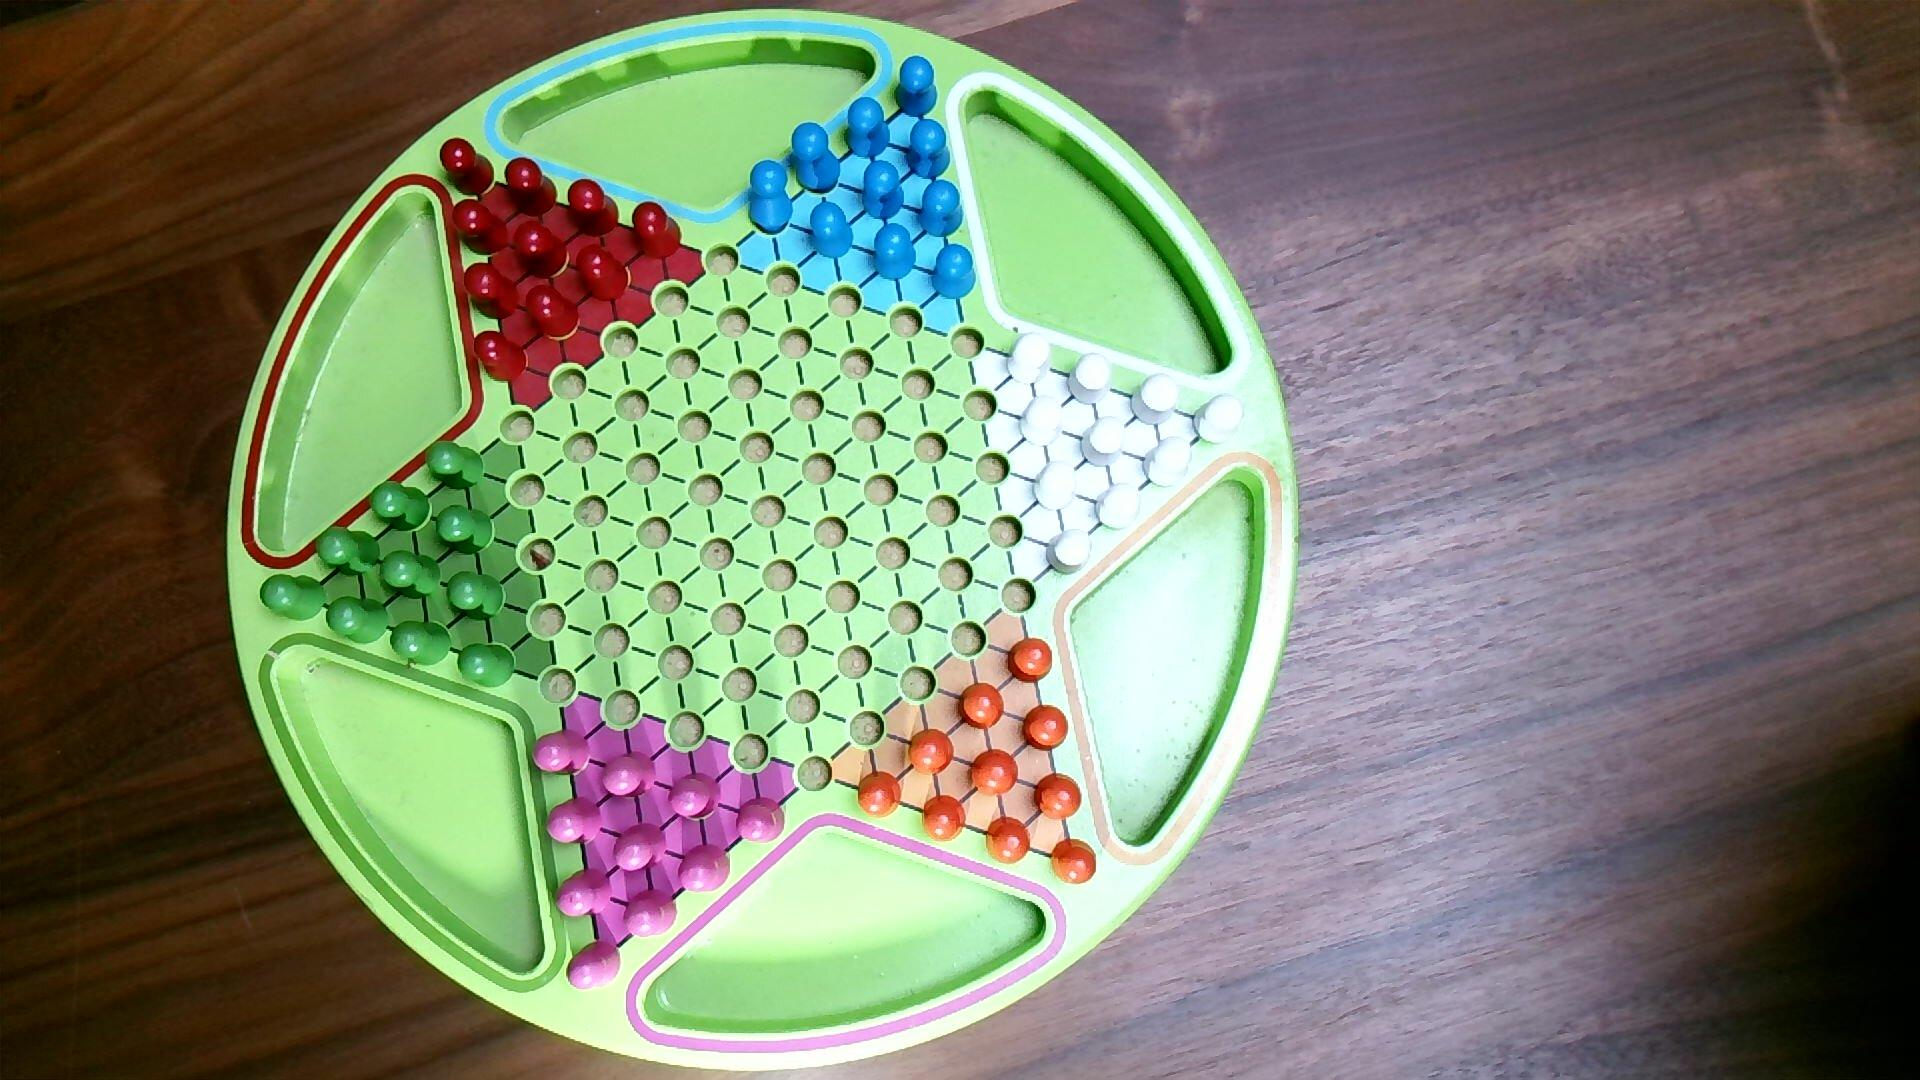B: (790, 121, 843, 196), (746, 160, 795, 233), (843, 94, 893, 161), (891, 53, 940, 120), (858, 158, 907, 223), (905, 117, 953, 182), (916, 178, 967, 240), (870, 222, 918, 284), (931, 243, 978, 303), (808, 200, 855, 262)
G: (314, 525, 382, 579), (368, 479, 433, 534), (324, 595, 392, 647), (378, 549, 443, 603), (423, 439, 487, 493), (388, 618, 455, 669), (444, 568, 506, 622), (434, 504, 496, 558), (258, 574, 327, 622), (458, 641, 518, 690)
O: (967, 746, 1021, 800), (1031, 770, 1085, 823), (1047, 836, 1098, 887), (955, 680, 1006, 732), (1019, 703, 1071, 754), (907, 727, 957, 779), (982, 815, 1033, 866), (920, 793, 969, 845), (1005, 636, 1055, 686), (856, 770, 905, 819)
R: (460, 260, 524, 323), (448, 196, 512, 258), (438, 136, 497, 199), (564, 175, 622, 239), (504, 156, 560, 220), (574, 243, 632, 305), (512, 220, 570, 281), (629, 199, 684, 262), (524, 282, 582, 342), (472, 328, 530, 386)
R2: (554, 866, 615, 920), (562, 939, 622, 993), (543, 795, 605, 848), (530, 728, 593, 778), (621, 887, 680, 940), (611, 822, 670, 874), (675, 843, 733, 895), (666, 771, 723, 824), (600, 750, 659, 800), (735, 796, 787, 847)
W: (1127, 372, 1183, 429), (1191, 392, 1247, 447), (1139, 435, 1193, 491), (1005, 331, 1055, 388), (1065, 351, 1116, 407), (1079, 415, 1129, 471), (1017, 394, 1067, 448), (1033, 459, 1080, 513), (1044, 527, 1095, 578), (1093, 483, 1143, 533)
